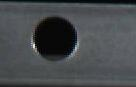holes: (30, 14, 80, 62)
